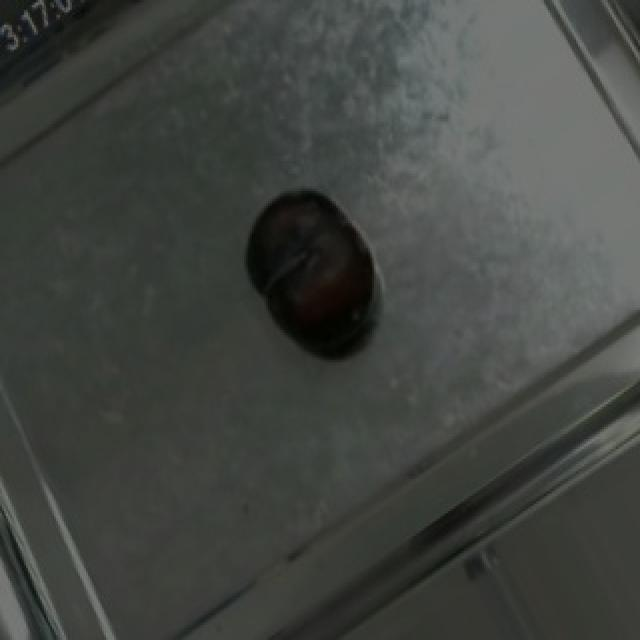Fruit: (226, 171, 394, 360)
